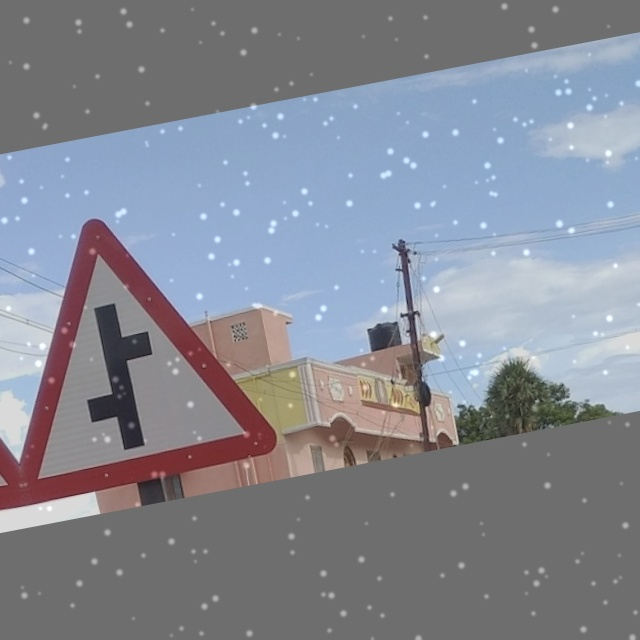Staggered_Intersection: (1, 199, 264, 500)
